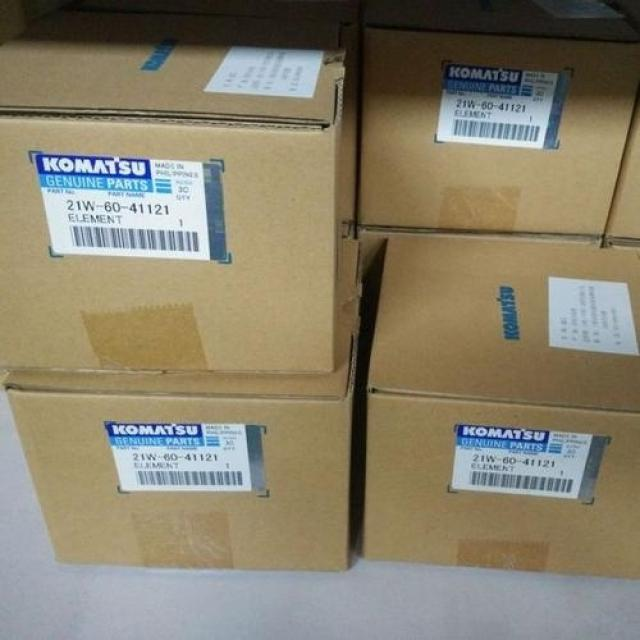box: (0, 231, 366, 570), (360, 239, 639, 579), (356, 231, 604, 392), (604, 100, 639, 237)
